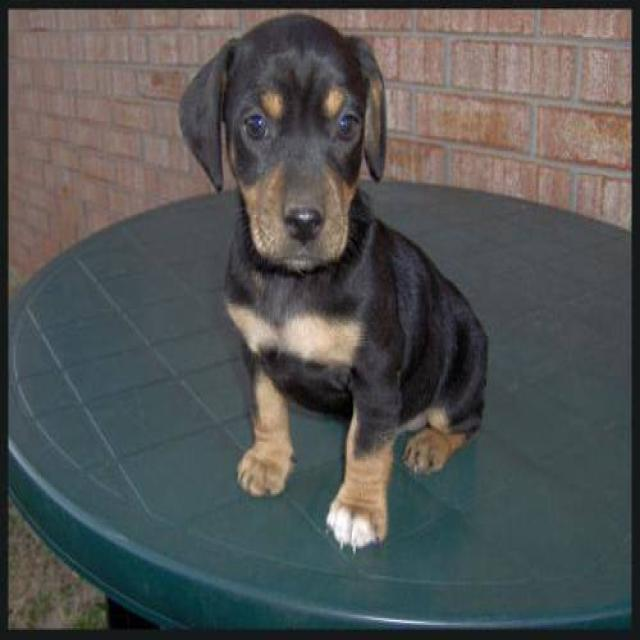dog: (175, 12, 489, 551)
